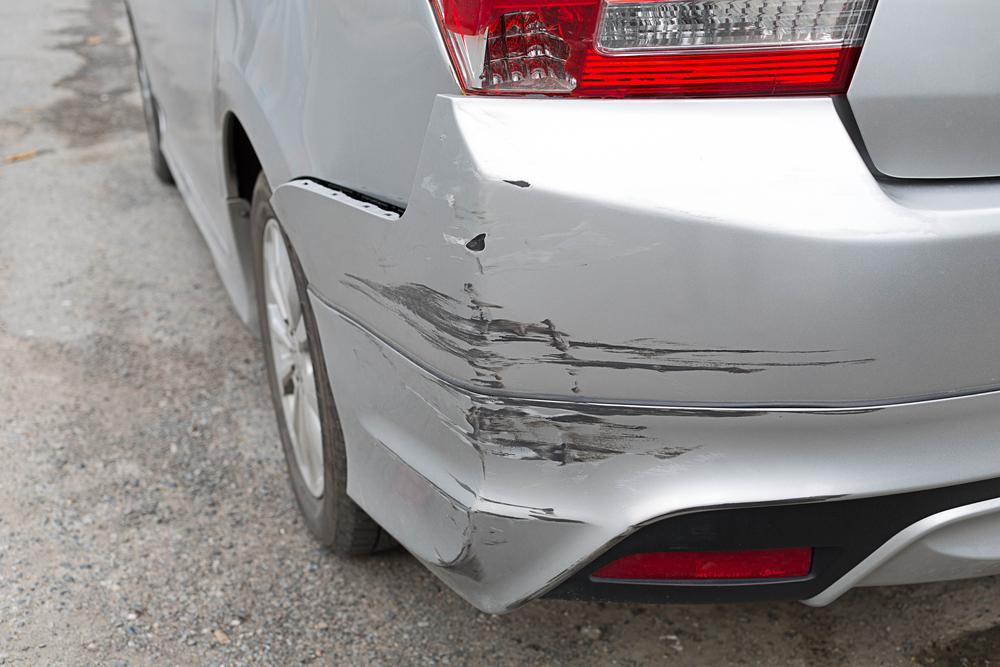lamp broken: (433, 0, 879, 95)
scratch: (337, 160, 903, 584)
